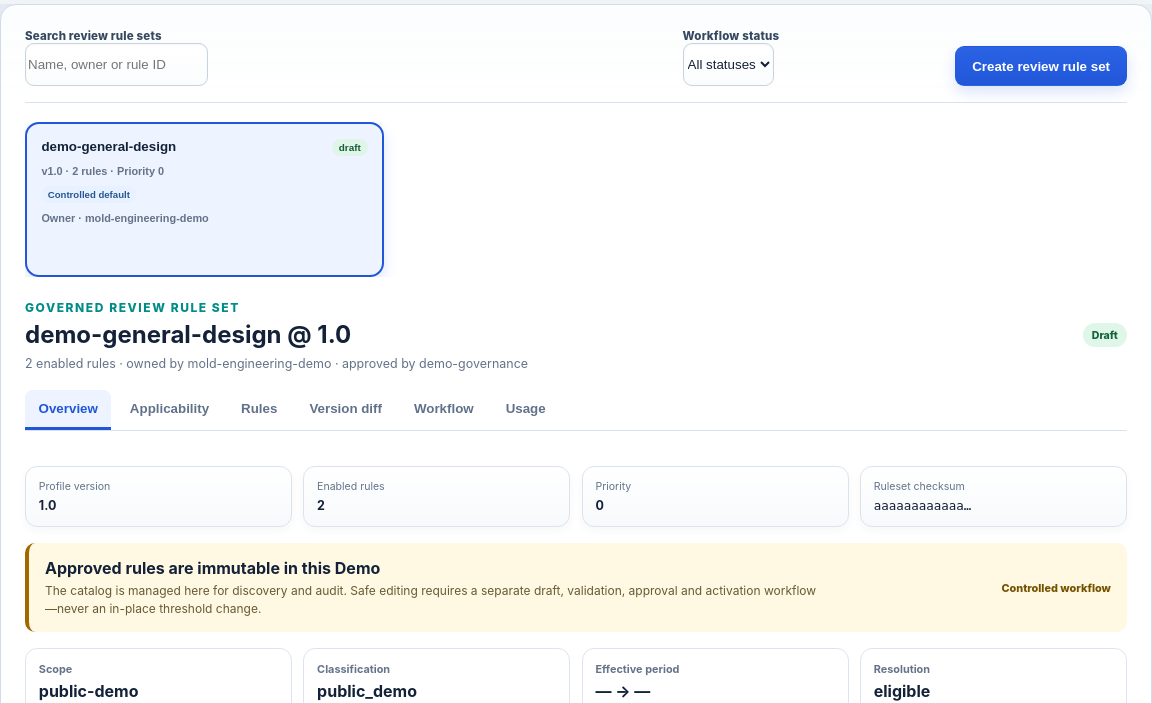
Test: RuleManagementWorkspace › uses structured fields instead of exposing raw JSON to rule authors
Step 1. Click the button "Rules" → (259, 410), box left=228, top=390, right=291, bottom=430
(page scrolled)
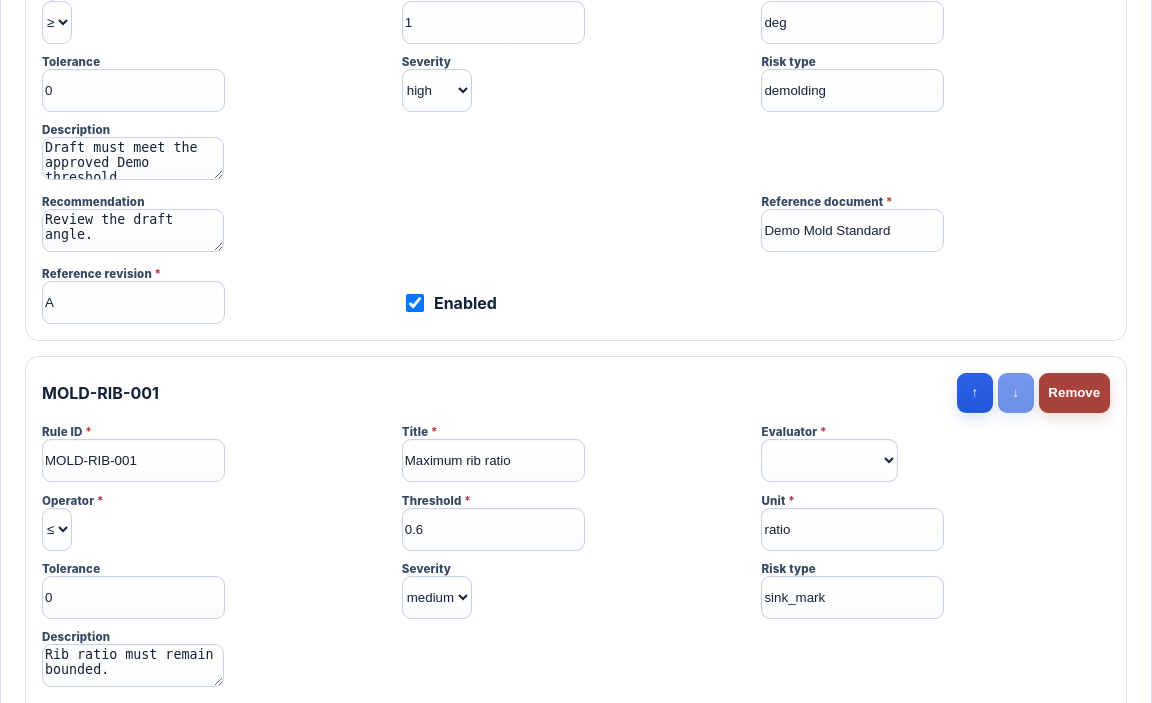
Now the text "Reference document" is shown, box left=762, top=195, right=886, bottom=209
